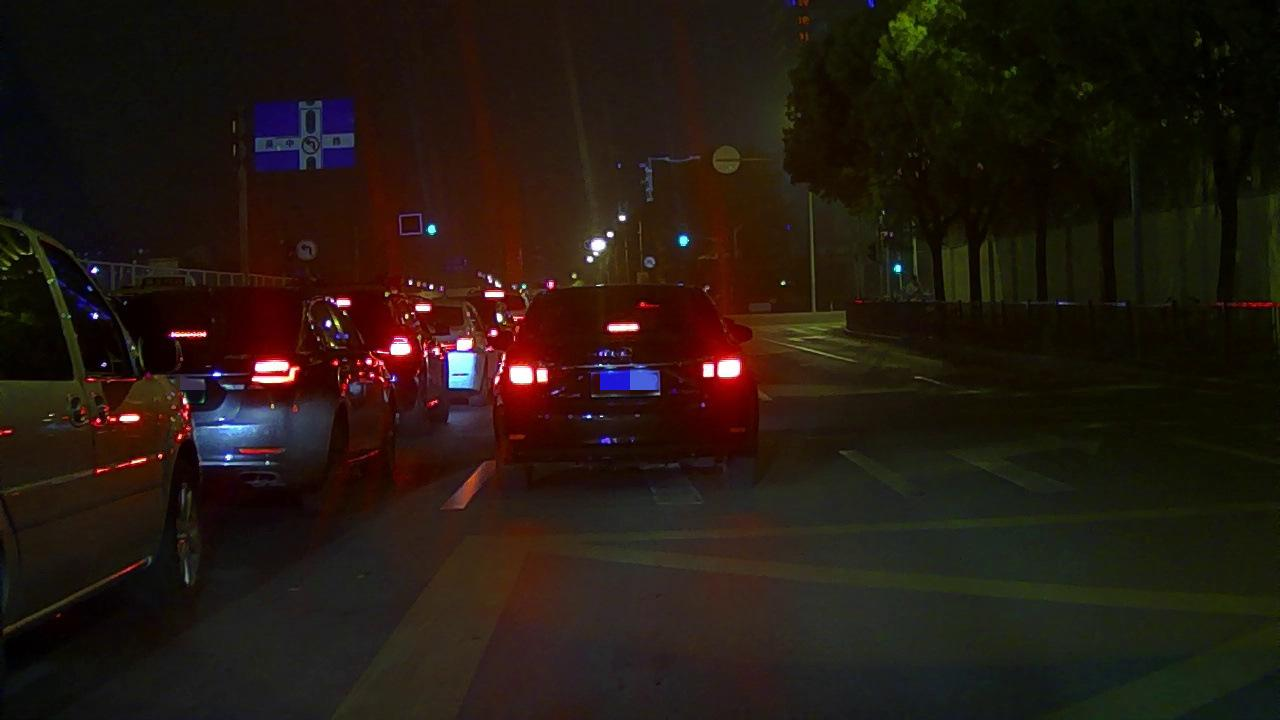traffic_light: (679, 235, 689, 247), (427, 223, 436, 235)
